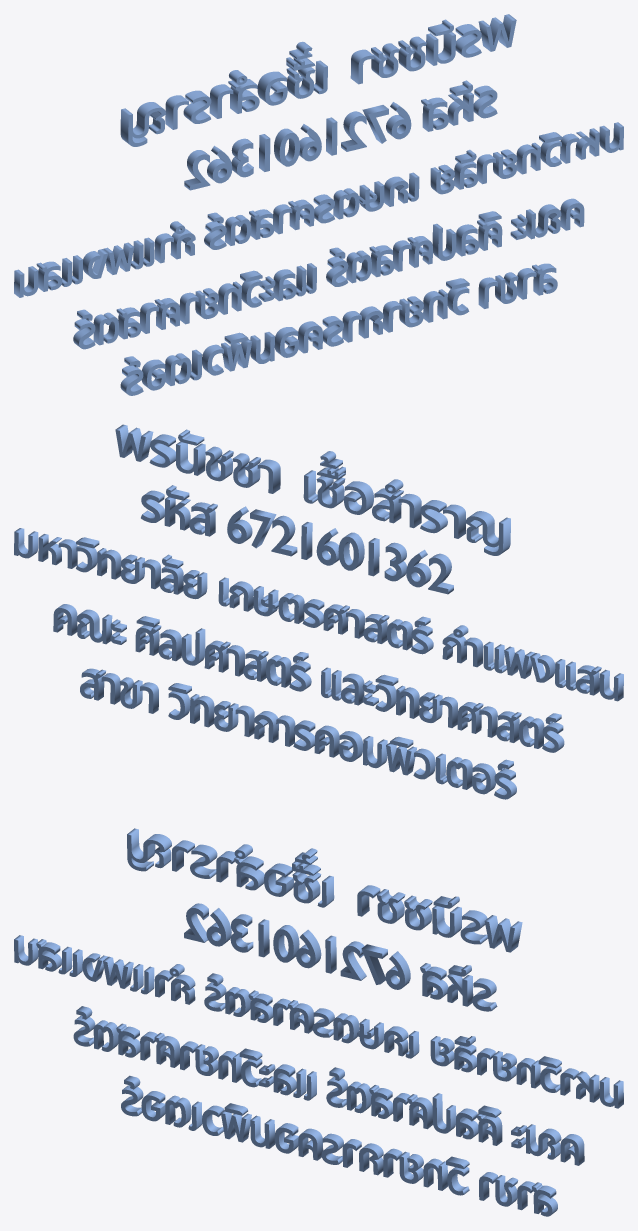
3 renders of one model, top to bottom at view 1: azimuth 30°, elevation 25°; view 2: azimuth 150°, elevation 25°; view 3: azimuth 330°, elevation 25°, orthographic.
Visible parts, largest first — view 1: Text.007, Text.005, Text.003, Text.006, Text.004; view 2: Text.007, Text.005, Text.003, Text.006, Text.004; view 3: Text.007, Text.005, Text.006, Text.003, Text.004.
Boxes of the visible parts, x1=… form: Text.007: x1=14, y1=122, x2=623, y2=297; Text.005: x1=73, y1=198, x2=584, y2=349; Text.003: x1=120, y1=14, x2=516, y2=146; Text.006: x1=120, y1=263, x2=557, y2=395; Text.004: x1=184, y1=80, x2=497, y2=190; Text.007: x1=14, y1=528, x2=623, y2=701; Text.005: x1=53, y1=604, x2=564, y2=752; Text.003: x1=115, y1=424, x2=510, y2=555; Text.006: x1=80, y1=668, x2=516, y2=799; Text.004: x1=141, y1=485, x2=453, y2=594; Text.007: x1=14, y1=935, x2=623, y2=1108; Text.005: x1=73, y1=1006, x2=584, y2=1165; Text.006: x1=121, y1=1075, x2=557, y2=1216; Text.003: x1=127, y1=828, x2=522, y2=952; Text.004: x1=184, y1=903, x2=497, y2=1011.
Size of the model in its own units: 3.65 by 1.75 by 0.1165.
